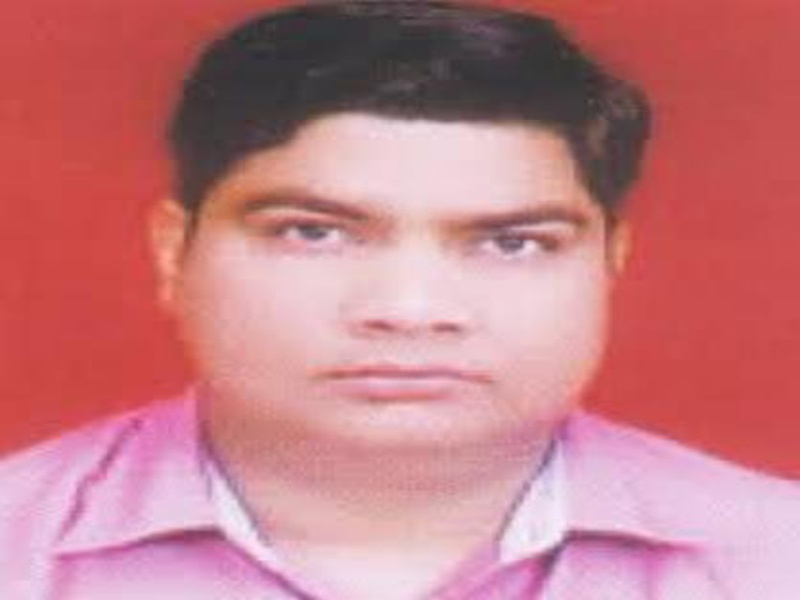TsisyArotava: (140, 9, 650, 538)
